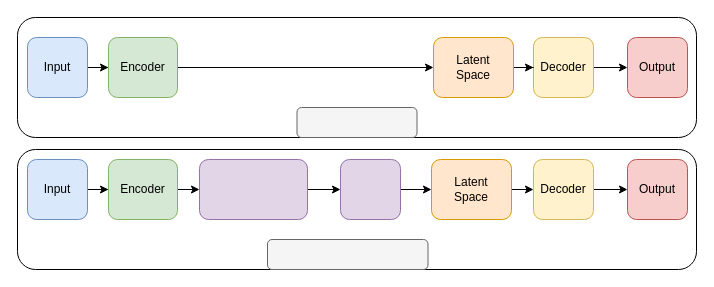
Image size: 714x287. Some labels were removed from this diagram. Each missing label, with the box of its shape:
Auto-Encoder: (296, 106, 417, 138)
N~(0,1): (340, 158, 400, 220)
Probabilistic Mean and variance: (198, 158, 308, 220)
Variational Auto-Encoder: (266, 238, 428, 270)
